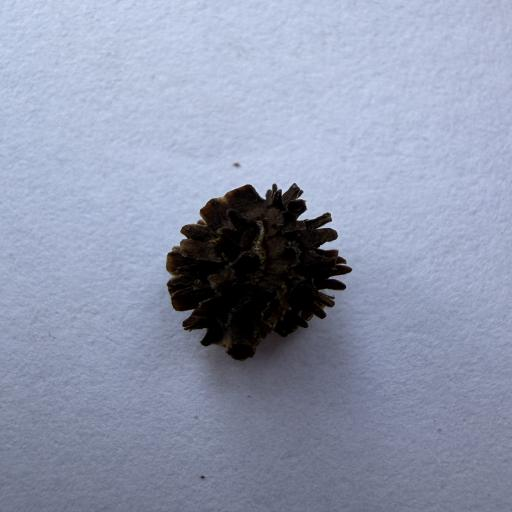papaya_seed: (166, 163, 361, 362)
